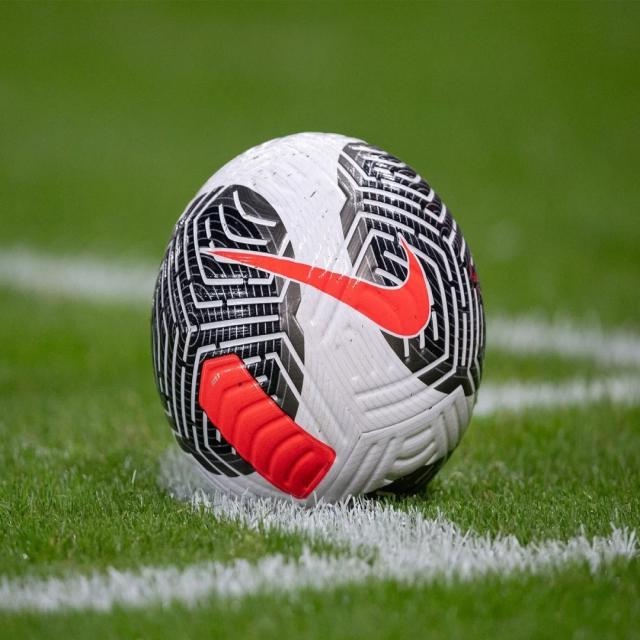nike: (195, 233, 438, 350)
